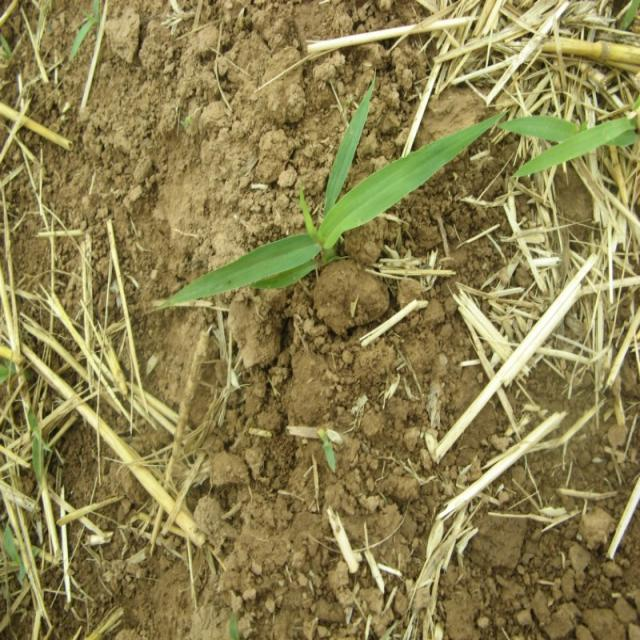bg: (149, 91, 497, 307)
